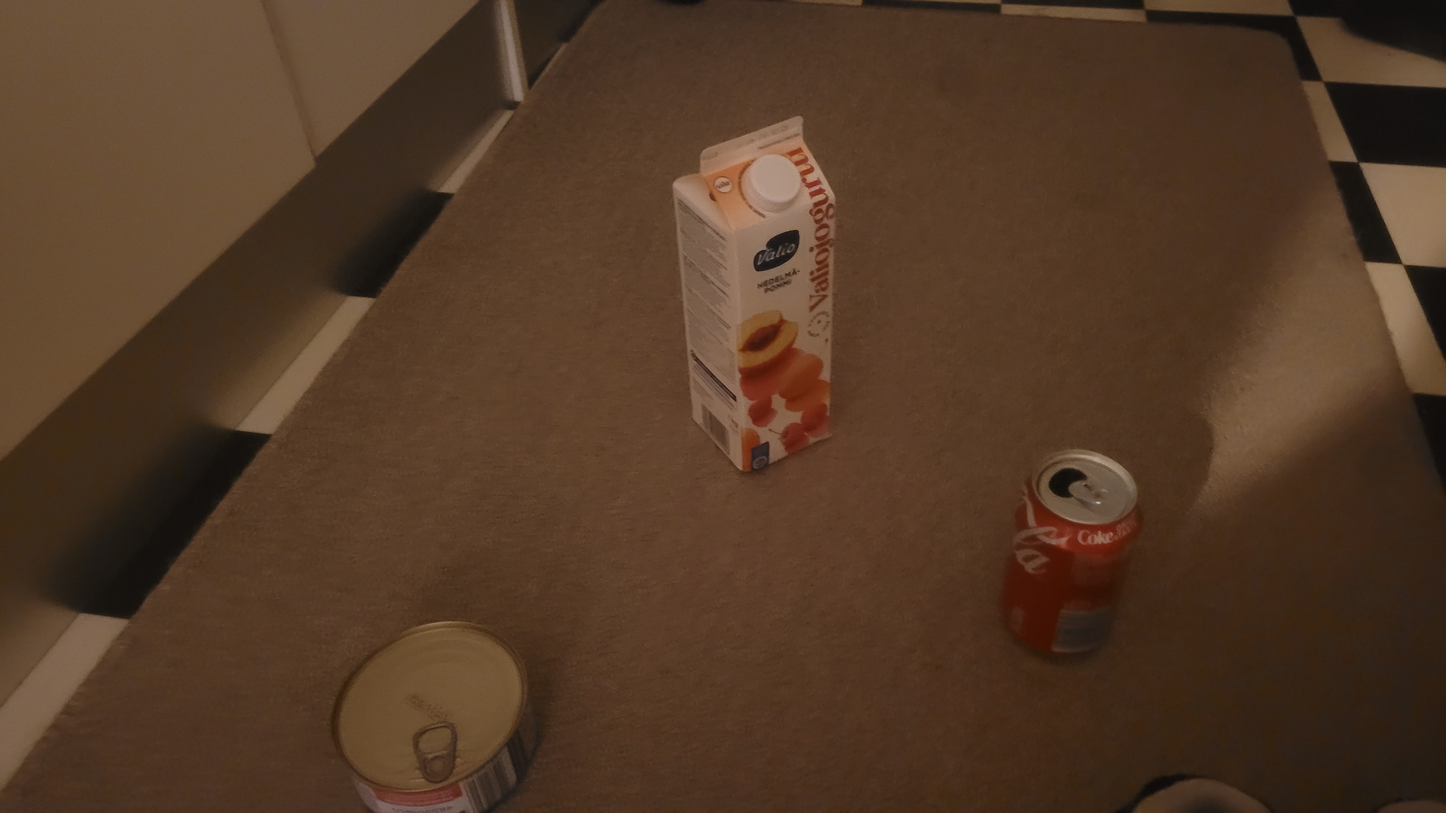Dryckeskartong: (671, 115, 835, 473)
Konservburk: (330, 620, 541, 813)
Pantburk: (998, 449, 1141, 661)
